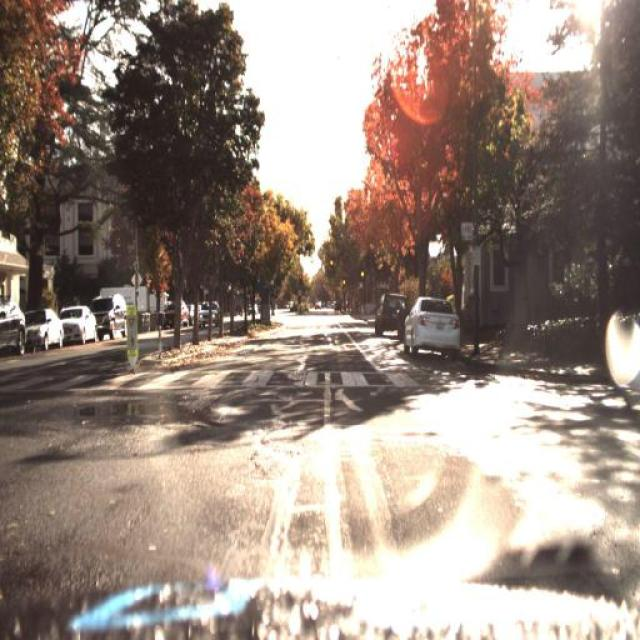car: (403, 291, 459, 360), (15, 304, 60, 354), (94, 288, 130, 344), (368, 286, 402, 340), (23, 302, 62, 349), (1, 295, 26, 364), (64, 302, 94, 342), (160, 300, 186, 324), (196, 302, 220, 327)
trafficLight-Green: (326, 250, 336, 274)
trafficLight-RedLeft: (358, 258, 368, 286), (339, 266, 348, 290)
trafficLight-YellowLeft: (358, 262, 369, 280), (340, 274, 350, 287)
